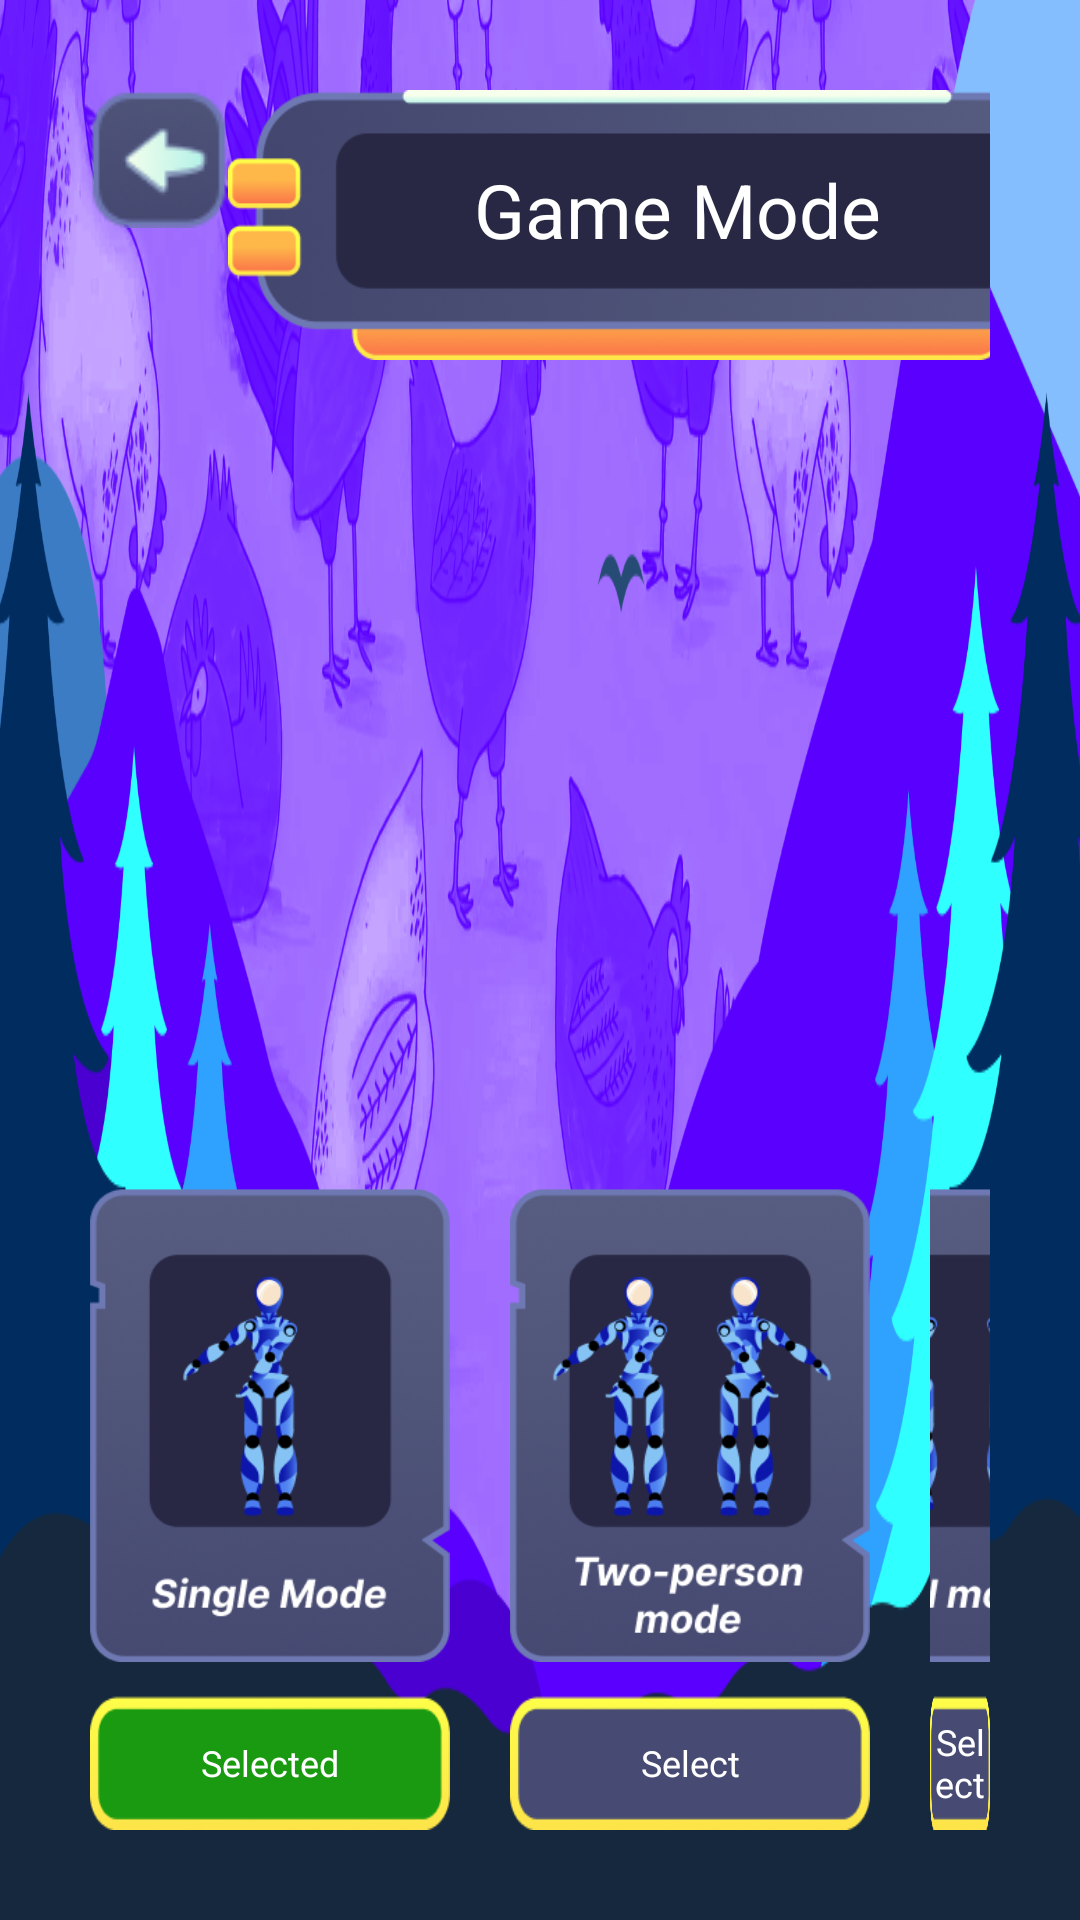

Icons on this 1080px x 1920px Android screen, each with the point to tap as [x,y]:
back: [159,159]
